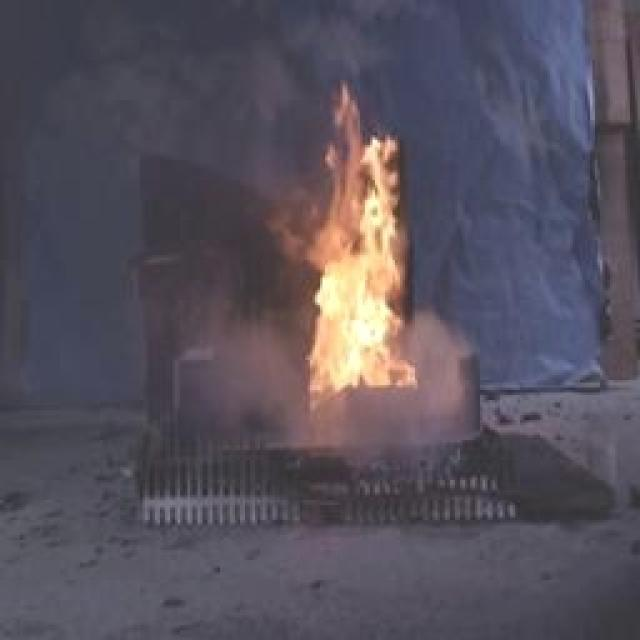fire: (283, 88, 415, 408)
